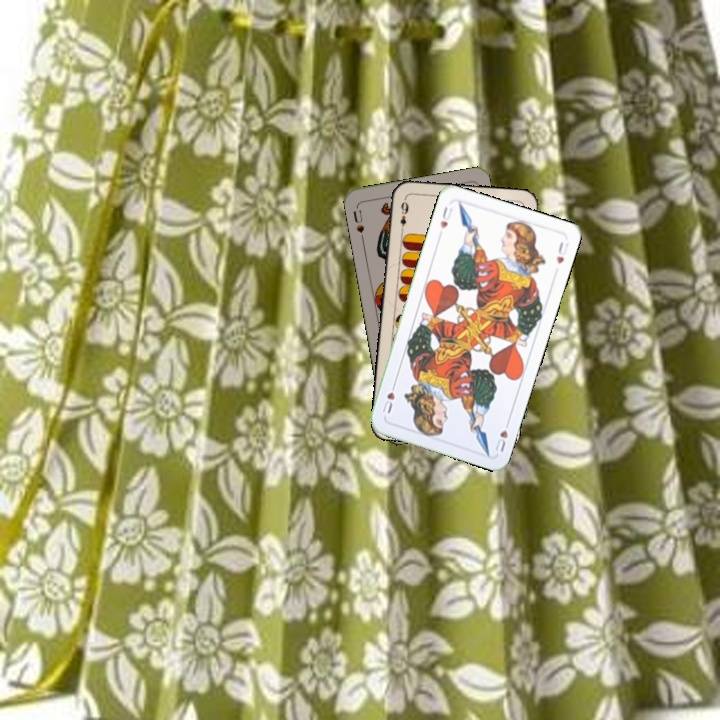E9: (396, 198, 411, 235)
HU: (491, 416, 512, 455), (436, 202, 455, 231)
SU: (349, 206, 367, 243)
